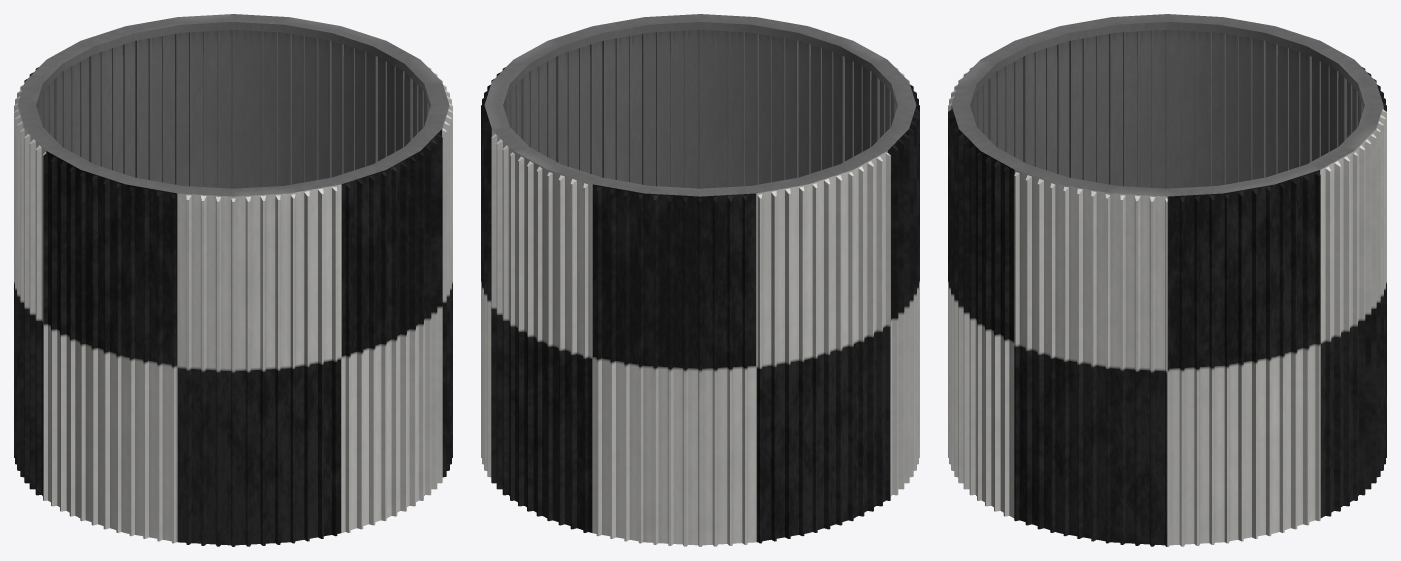
The model's file is ksprocket.fbx.
The picture shows the model from 3 angles, left to right: view 1: azimuth 30°, elevation 25°; view 2: azimuth 150°, elevation 25°; view 3: azimuth 270°, elevation 25°; orthographic projection.
Parts seen in each view (by area): view 1: wall.004; view 2: wall.004; view 3: wall.004.
Boxes of the visible parts, bbox=[...] form: wall.004: bbox=[14, 14, 452, 546]; wall.004: bbox=[481, 14, 919, 546]; wall.004: bbox=[948, 14, 1386, 546].
Bounding box in the file's own units: 1027 × 900 × 1026.
